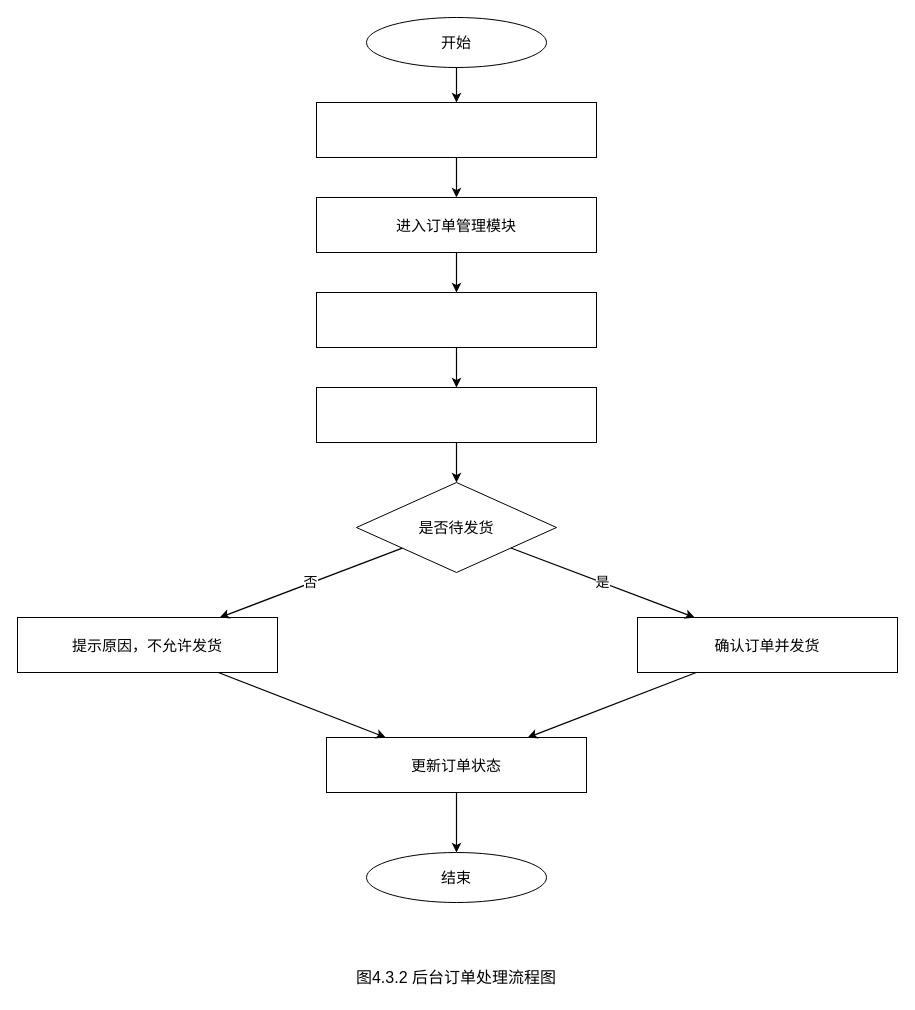
This 915x1010 diagram has some shape labels left out. The box of each missing label's shape, as (x1, y1, x2, y2) in pixels:
查看订单详情: (316, 386, 596, 442)
筛选并选择订单: (316, 292, 596, 348)
管理员登录后台系统: (316, 102, 596, 158)
